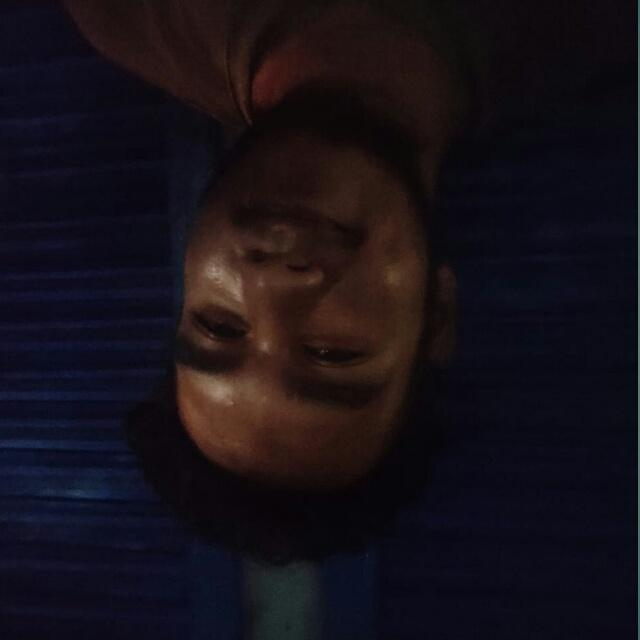Happy: (143, 92, 472, 552)
